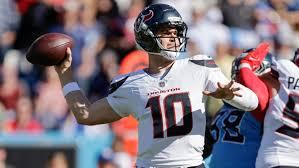americanFootball: (27, 32, 73, 66)
